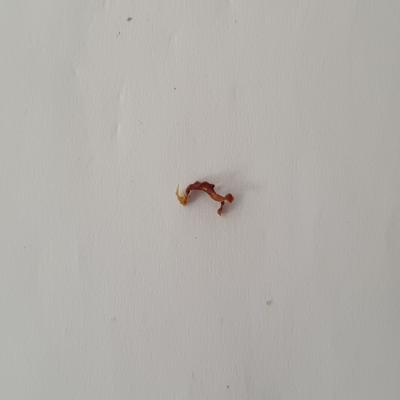thread: (171, 174, 239, 226)
